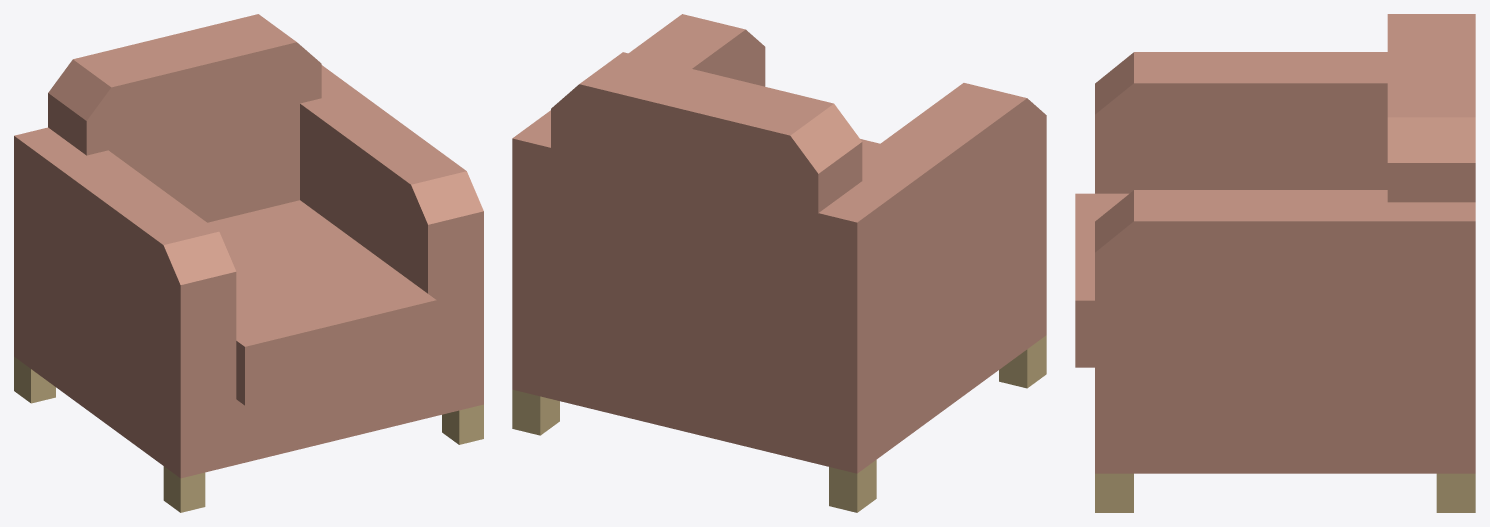
The model's file is lounge-chair.glb.
3 views of the same model, side by side, from view 1: azimuth 30°, elevation 25°; view 2: azimuth 150°, elevation 25°; view 3: azimuth 270°, elevation 25° (orthographic). The views are drawn at different scales.
Size of the model in its own units: 1 by 1 by 1.
